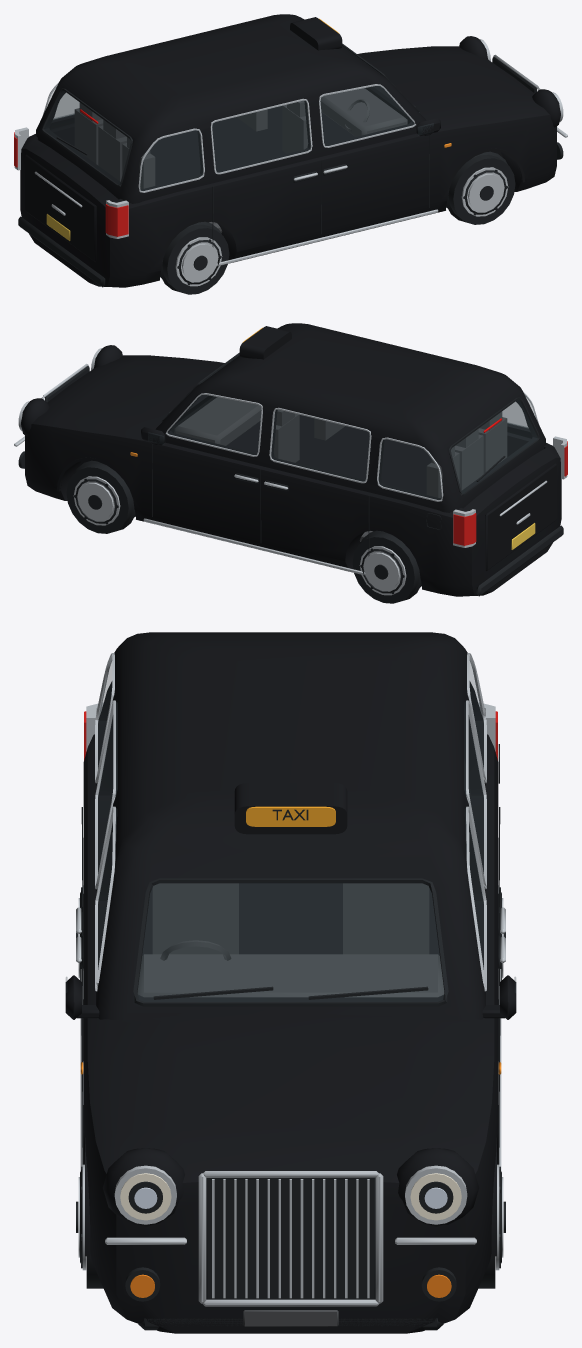
Rendered from london-cab-original-poc.glb.
3 views of the same model, one above another, from view 1: azimuth 30°, elevation 25°; view 2: azimuth 150°, elevation 25°; view 3: azimuth 270°, elevation 25° (orthographic). The views are drawn at different scales.
Visible parts, largest first — view 1: CabBody, CabGlass, CabRubber, CabInterior, CabTrim, CabLights; view 2: CabBody, CabGlass, CabRubber, CabInterior, CabTrim, CabLights; view 3: CabBody, CabGlass, CabRubber, CabInterior, CabTrim, CabLights.
Boxes of the visible parts, box(x1,y1,x2,y2) form: CabBody: box(20, 14, 560, 287); CabGlass: box(44, 86, 433, 190); CabRubber: box(18, 43, 563, 294); CabInterior: box(74, 88, 407, 232); CabTrim: box(14, 39, 567, 286); CabLights: box(14, 18, 451, 240); CabBody: box(21, 323, 561, 596); CabGlass: box(148, 395, 537, 499); CabRubber: box(18, 352, 563, 603); CabInterior: box(174, 397, 507, 541); CabTrim: box(14, 348, 567, 595); CabLights: box(130, 327, 567, 549); CabBody: box(65, 632, 516, 1333); CabGlass: box(66, 661, 515, 1001); CabRubber: box(76, 744, 505, 1330); CabInterior: box(137, 883, 444, 1326); CabTrim: box(76, 653, 505, 1306); CabLights: box(80, 711, 501, 1297).
Bounding box in the file's own units: 4.86 × 1.89 × 2.04.
